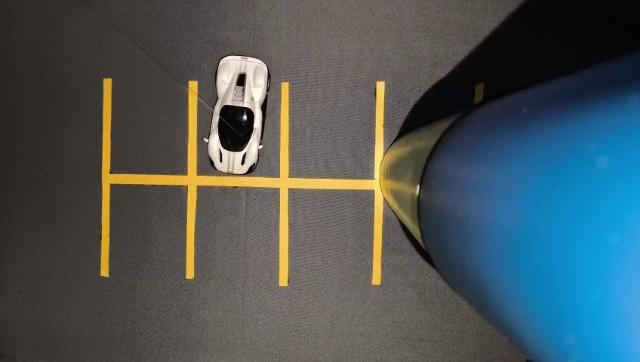toy_car: (183, 44, 279, 192)
